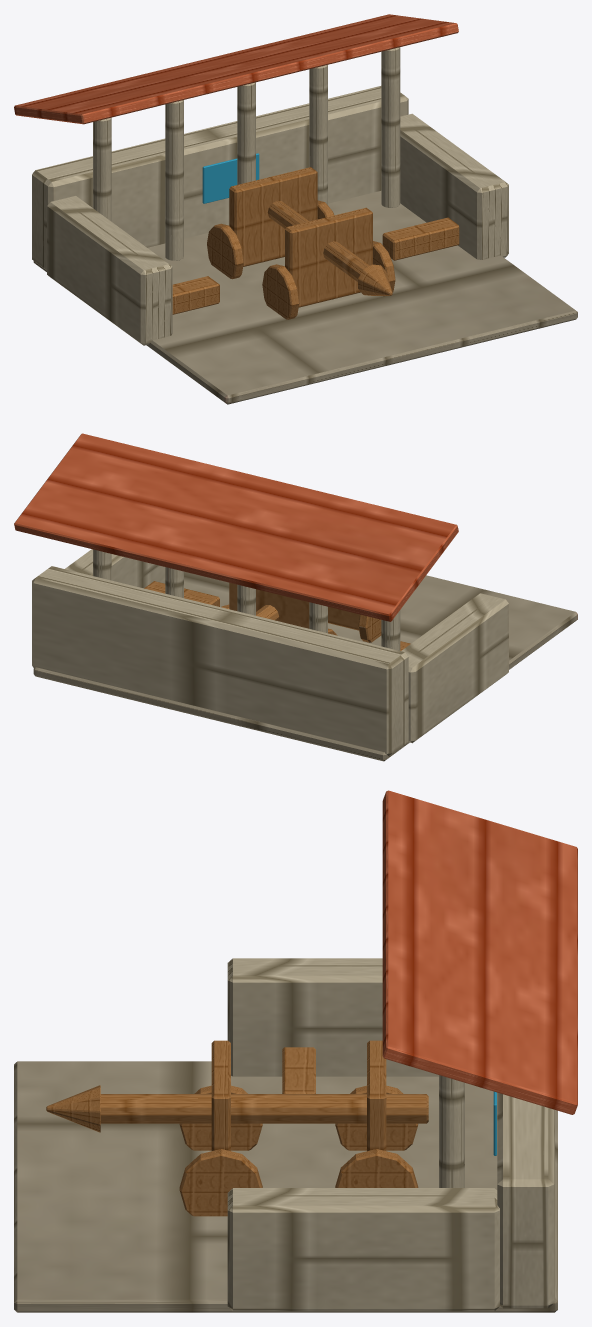
The model's file is edificio-b_016-e1-lod0-CeEDOYSw.glb.
The picture shows the model from 3 angles, top to bottom: view 1: azimuth 30°, elevation 25°; view 2: azimuth 150°, elevation 25°; view 3: azimuth 270°, elevation 25°; orthographic projection. The views are drawn at different scales.
Parts seen in each view (by area): view 1: envolvente_fabrica_asedio_e1, mecanismo_fabrica_asedio_e1, team_color; view 2: envolvente_fabrica_asedio_e1, mecanismo_fabrica_asedio_e1; view 3: envolvente_fabrica_asedio_e1, mecanismo_fabrica_asedio_e1.
Boxes of the visible parts, x1,y1,x2,y2 form: envolvente_fabrica_asedio_e1: (14,14,577,404); mecanismo_fabrica_asedio_e1: (207,167,395,319); team_color: (202,153,259,203); envolvente_fabrica_asedio_e1: (14,433,577,761); mecanismo_fabrica_asedio_e1: (221,582,381,642); envolvente_fabrica_asedio_e1: (14,790,577,1312); mecanismo_fabrica_asedio_e1: (46,1040,428,1216).
Bounding box in the file's own units: 47 × 23.43 × 43.53.
2 materials, 1 textured.
